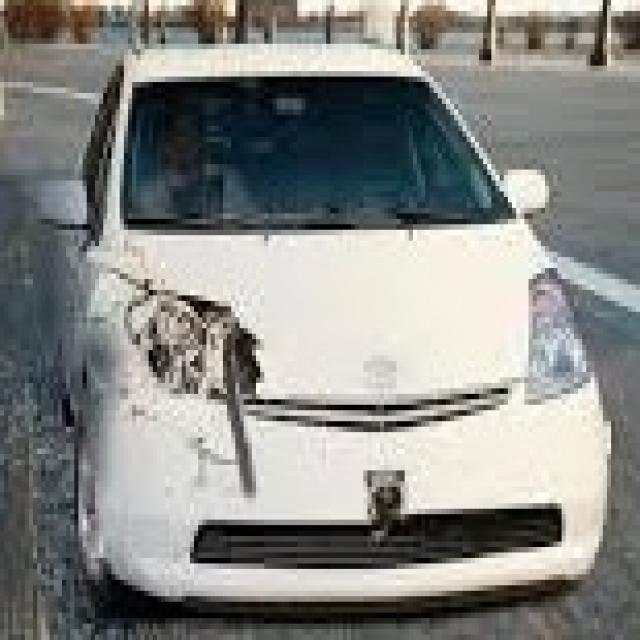minor: (80, 256, 286, 495)
